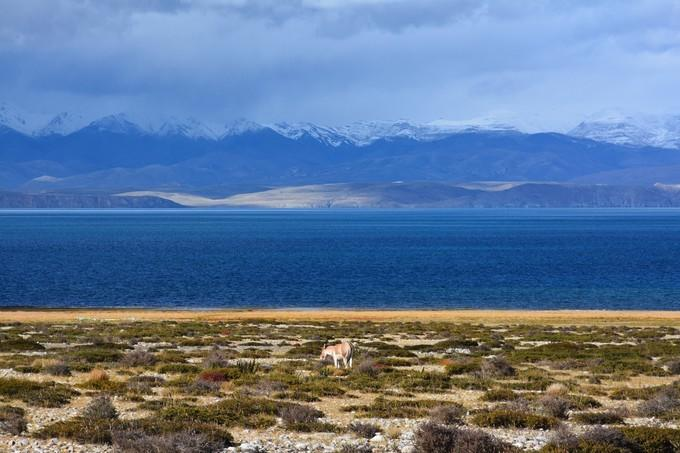mountain: (84, 114, 680, 189)
sea_river: (33, 205, 657, 299)
